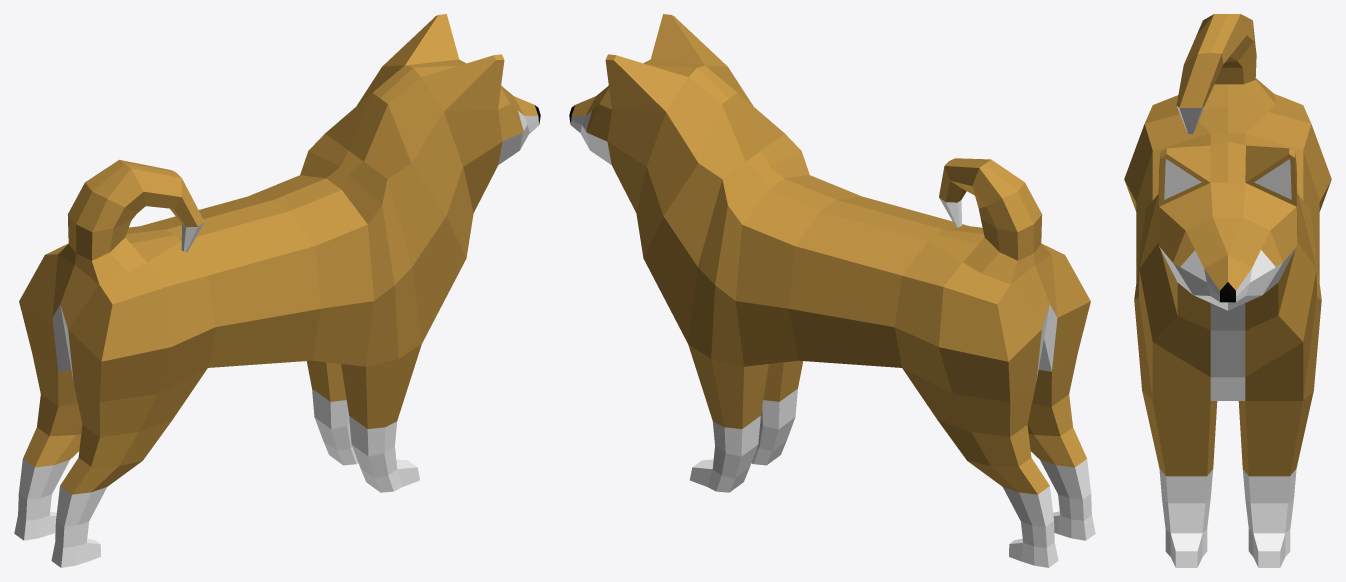
The model's file is dog.fbx.
The picture shows the model from 3 angles, left to right: view 1: azimuth 30°, elevation 25°; view 2: azimuth 150°, elevation 25°; view 3: azimuth 270°, elevation 25°; orthographic projection. The views are drawn at different scales.
Parts seen in each view (by area): view 1: 平面; view 2: 平面; view 3: 平面.
Boxes of the visible parts, x1,y1,x2,y2 form: 平面: [14, 14, 540, 567]; 平面: [569, 14, 1095, 567]; 平面: [1124, 14, 1331, 567].
Size of the model in its own units: 279 by 219 by 90.
